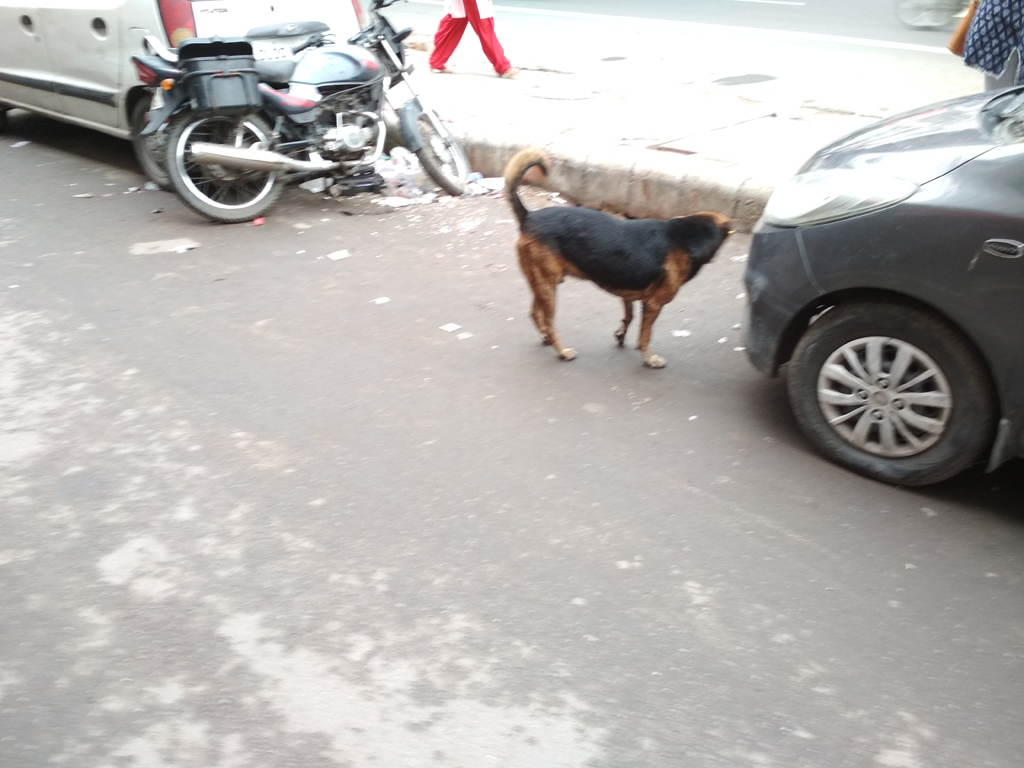dog: (503, 153, 734, 369)
